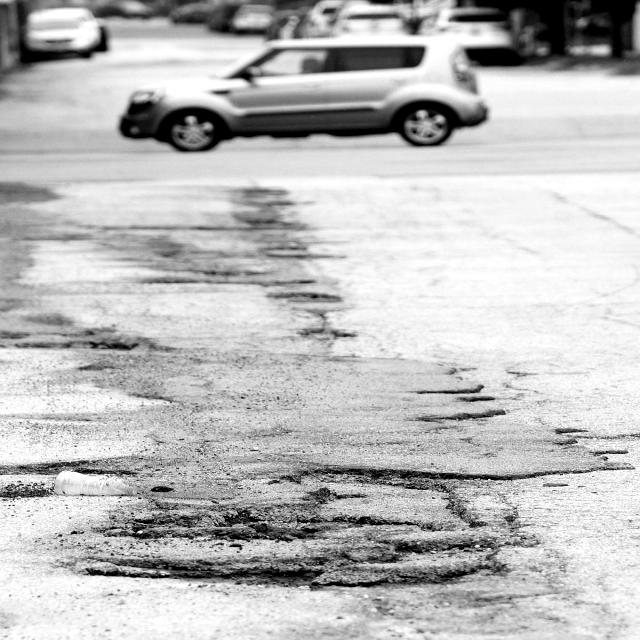pathole: (8, 274, 592, 640), (168, 166, 441, 338), (55, 171, 317, 344)
